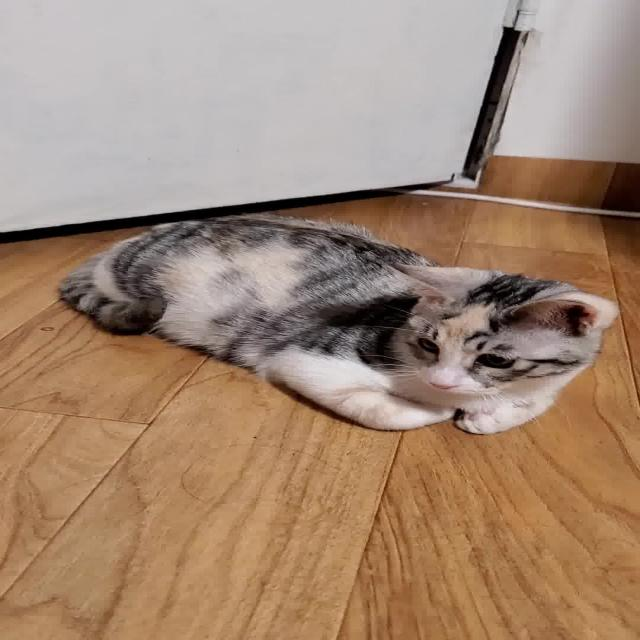cat: (42, 195, 632, 442)
